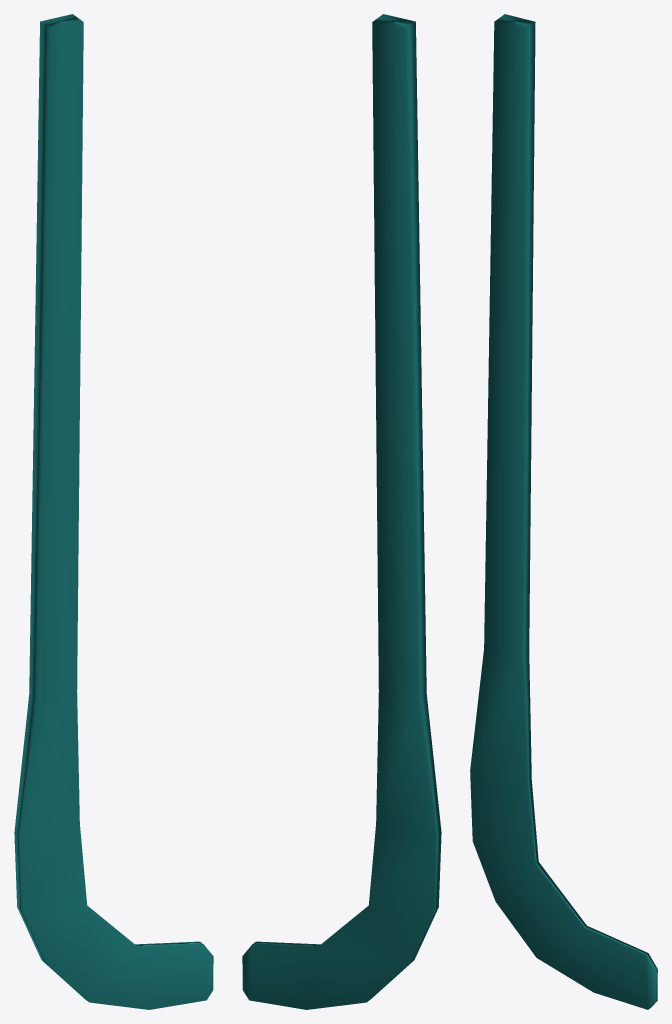
File: field_hockey_stick_collider.fbx
3 views of the same model, side by side, from view 1: azimuth 30°, elevation 25°; view 2: azimuth 150°, elevation 25°; view 3: azimuth 330°, elevation 25° (orthographic). The views are drawn at different scales.
Visible parts, largest first — view 1: field_hockey_stick_collider; view 2: field_hockey_stick_collider; view 3: field_hockey_stick_collider.
Part boxes in pixels (x1=…): field_hockey_stick_collider: x1=14, y1=14, x2=213, y2=1009; field_hockey_stick_collider: x1=242, y1=14, x2=441, y2=1009; field_hockey_stick_collider: x1=470, y1=14, x2=657, y2=1009.
Bounding box in the file's own units: 29.62 × 148 × 2.95.
